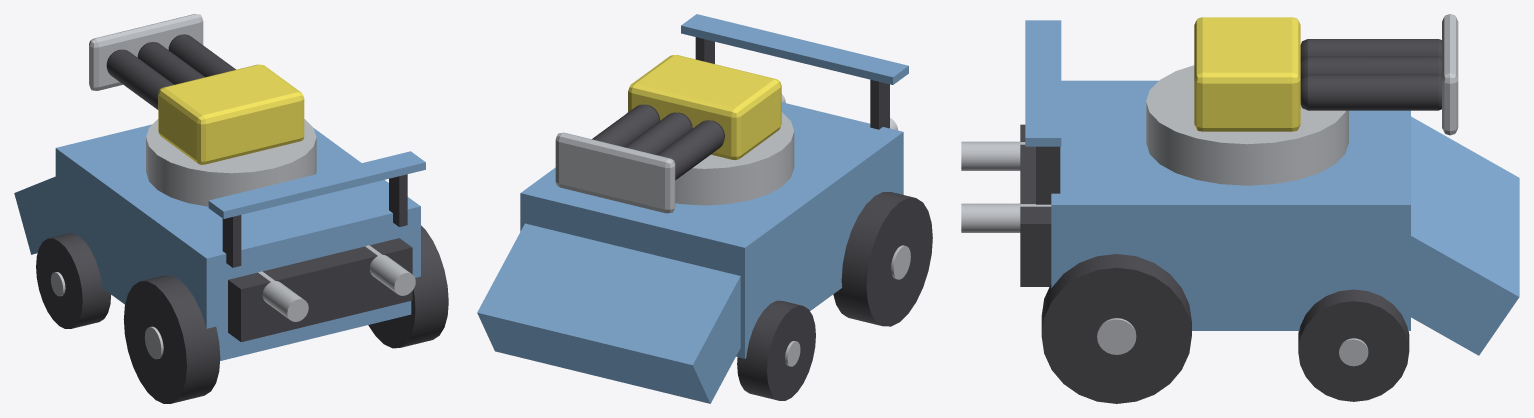
The model's file is robot_medium_shotgun_sprint.glb.
3 views of the same model, side by side, from view 1: azimuth 30°, elevation 25°; view 2: azimuth 150°, elevation 25°; view 3: azimuth 270°, elevation 25° (orthographic). The views are drawn at different scales.
Parts seen in each view (by area): view 1: robot_medium_shotgun_sprint, robot_medium_shotgun_sprint_gun, robot_medium_shotgun_sprint_wheel0, robot_medium_shotgun_sprint_wheel1, robot_medium_shotgun_sprint_wheel2; view 2: robot_medium_shotgun_sprint, robot_medium_shotgun_sprint_gun, robot_medium_shotgun_sprint_wheel0, robot_medium_shotgun_sprint_wheel1; view 3: robot_medium_shotgun_sprint, robot_medium_shotgun_sprint_gun, robot_medium_shotgun_sprint_wheel2, robot_medium_shotgun_sprint_wheel3.
Part boxes in pixels (x1,y1,x2,y2): robot_medium_shotgun_sprint: (14,119,425,360); robot_medium_shotgun_sprint_gun: (89,14,304,164); robot_medium_shotgun_sprint_wheel0: (123,275,220,403); robot_medium_shotgun_sprint_wheel1: (36,233,110,328); robot_medium_shotgun_sprint_wheel2: (368,225,448,348); robot_medium_shotgun_sprint: (477,14,908,403); robot_medium_shotgun_sprint_gun: (555,55,781,213); robot_medium_shotgun_sprint_wheel0: (833,192,932,326); robot_medium_shotgun_sprint_wheel1: (737,300,815,400); robot_medium_shotgun_sprint: (961,20,1519,355); robot_medium_shotgun_sprint_gun: (1194,14,1458,135); robot_medium_shotgun_sprint_wheel2: (1041,254,1191,403); robot_medium_shotgun_sprint_wheel3: (1298,289,1409,401).
Size of what is drawn, in the model's own units: 3.58 by 3.07 by 5.46.
